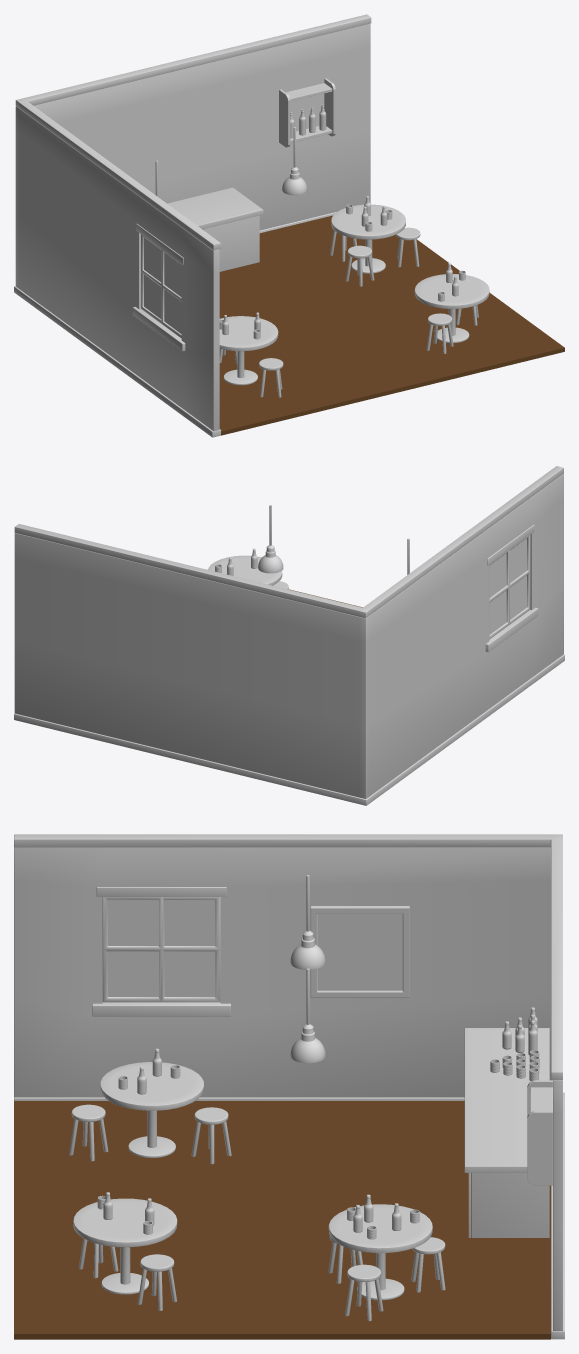
Rendered from scene_to_glb_16.glb.
3 views of the same model, one above another, from view 1: azimuth 30°, elevation 25°; view 2: azimuth 150°, elevation 25°; view 3: azimuth 270°, elevation 25° (orthographic). The views are drawn at different scales.
Visible parts, largest first — view 1: wall, floor, furniture, lamps; view 2: wall, furniture, lamps; view 3: wall, floor, furniture, lamps.
Part boxes in pixels (x1,y1,x2,y2): wall: [14, 14, 371, 437]; floor: [219, 215, 564, 435]; furniture: [167, 104, 489, 397]; lamps: [155, 127, 307, 196]; wall: [14, 466, 564, 805]; furniture: [208, 548, 288, 589]; lamps: [258, 505, 409, 574]; wall: [14, 834, 564, 1339]; floor: [14, 1101, 550, 1339]; furniture: [69, 1007, 549, 1321]; lamps: [290, 875, 325, 1063].
Size of what is drawn, in the model's own units: 14.03 by 7.29 by 13.62.
